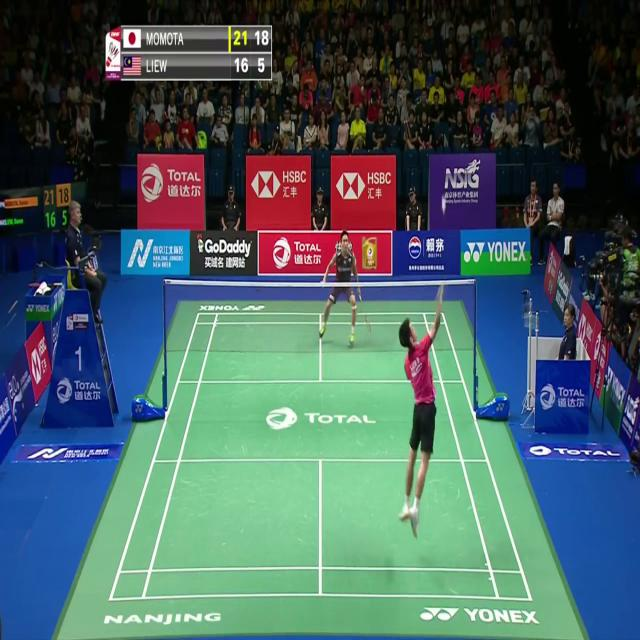Shuttlecock: (440, 200, 447, 211)
